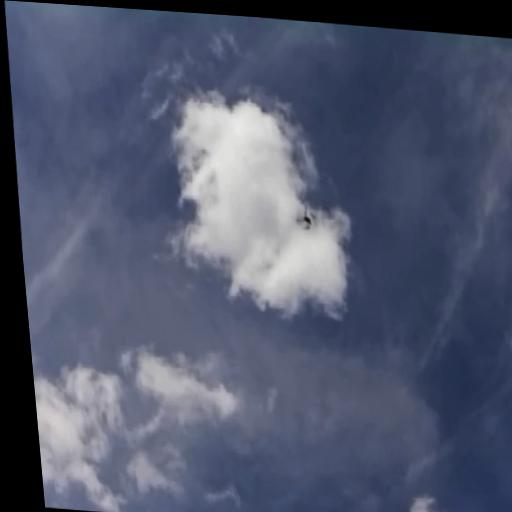drones: (291, 199, 319, 234)
